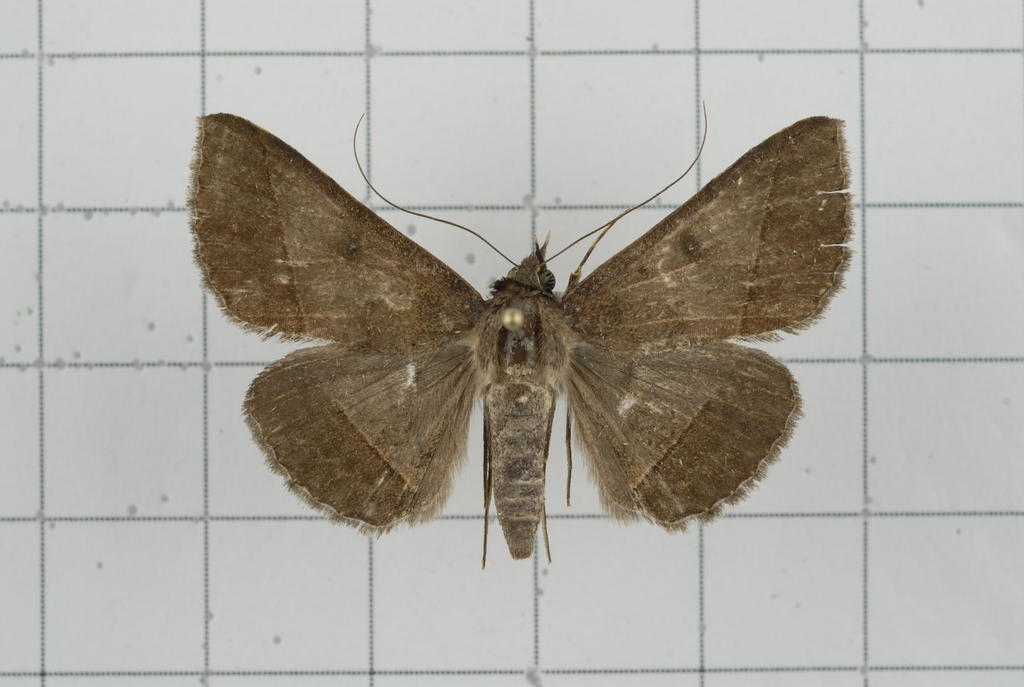Butterfly: (173, 85, 862, 566)
